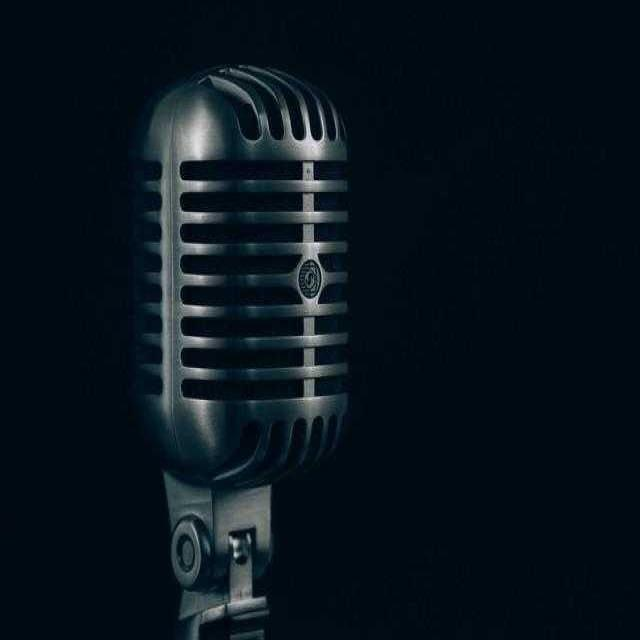microphone: (129, 67, 353, 630)
